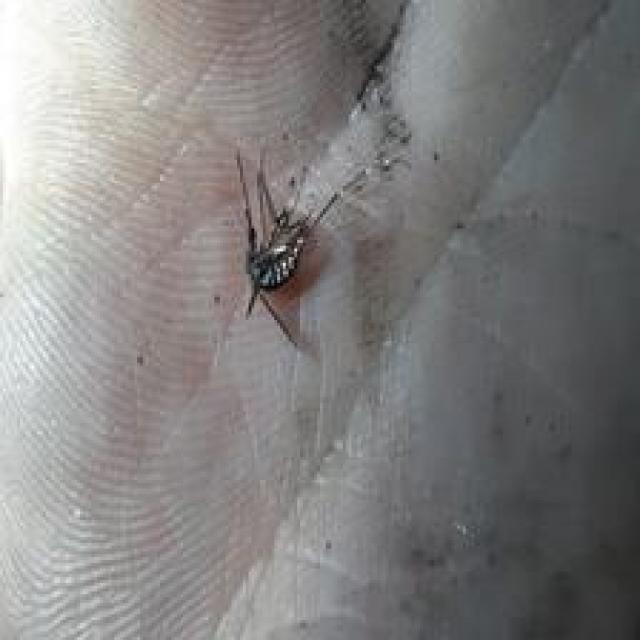Aedes albopictus: (230, 143, 373, 351)
